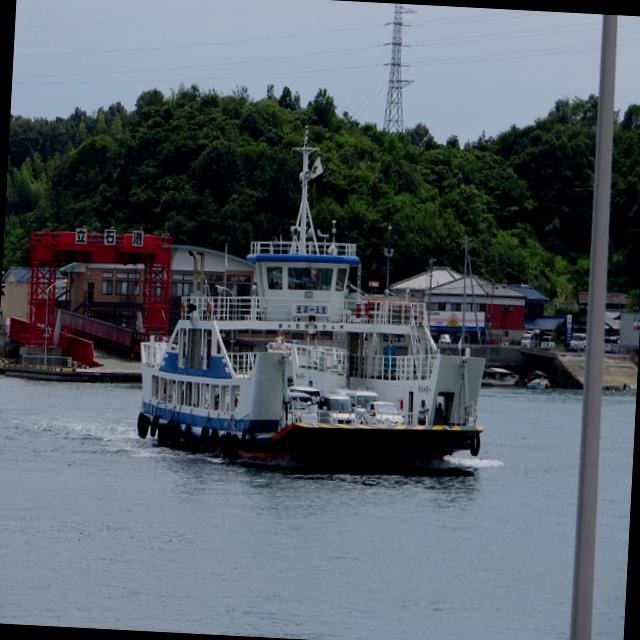Vehicle: (329, 388, 378, 425), (362, 397, 408, 426), (316, 392, 356, 423), (288, 393, 314, 413), (570, 333, 586, 352), (604, 338, 619, 353), (437, 332, 451, 346), (542, 336, 556, 350)
